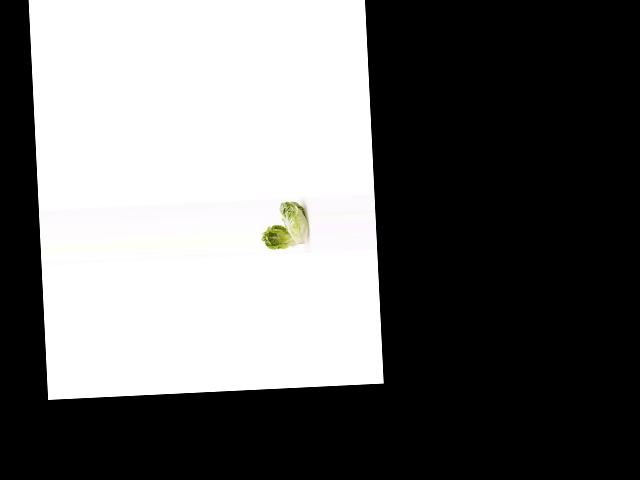lettuce: (276, 197, 311, 248)
